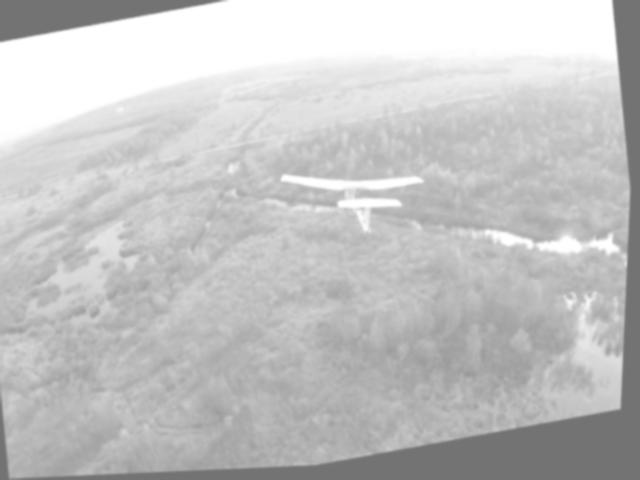hedef: (282, 149, 430, 262)
